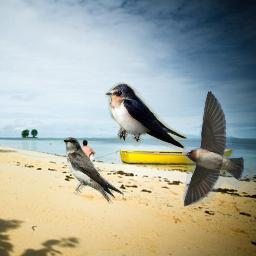Swallow: (183, 90, 245, 207), (105, 82, 187, 151), (63, 137, 124, 204)
